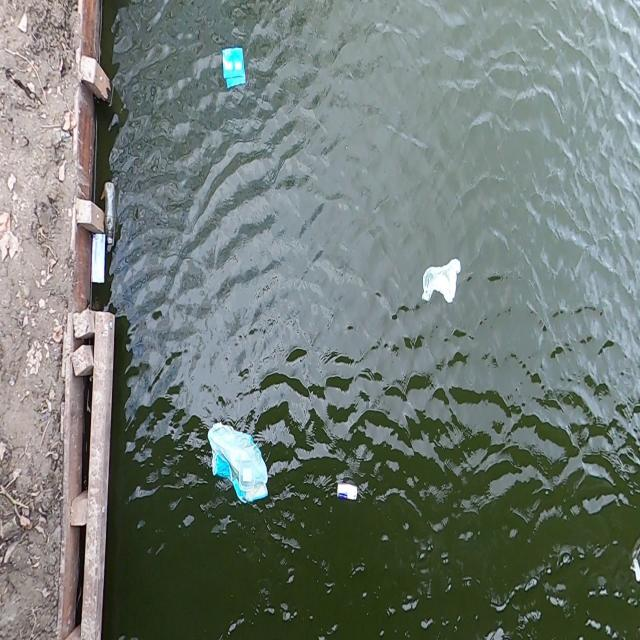Autre plastique: (217, 41, 251, 96)
Non plastique: (334, 480, 361, 504)
Sac plastique: (204, 418, 274, 510), (416, 253, 466, 305)
